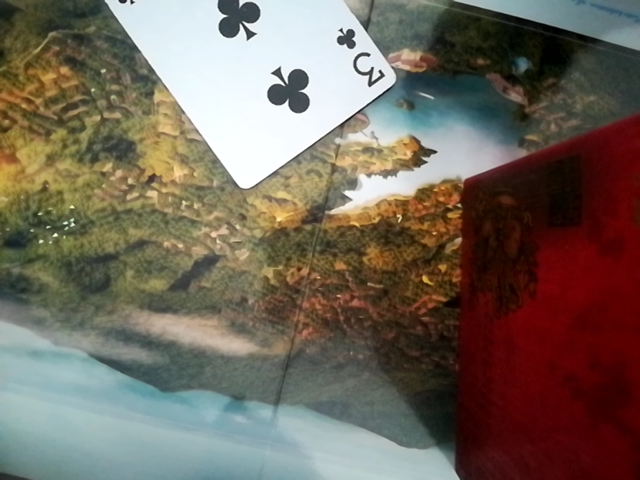mh 3: (93, 0, 390, 191)
